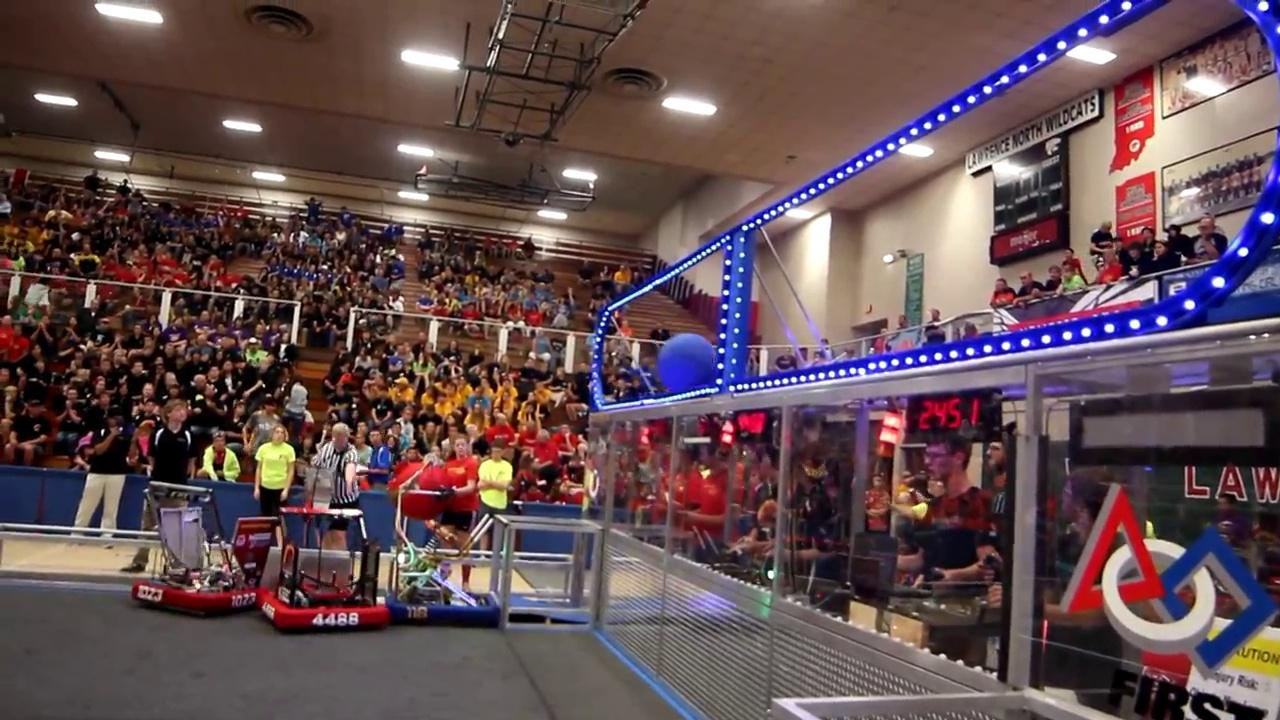robot: (382, 450, 510, 632), (258, 495, 396, 640), (129, 479, 260, 618)
